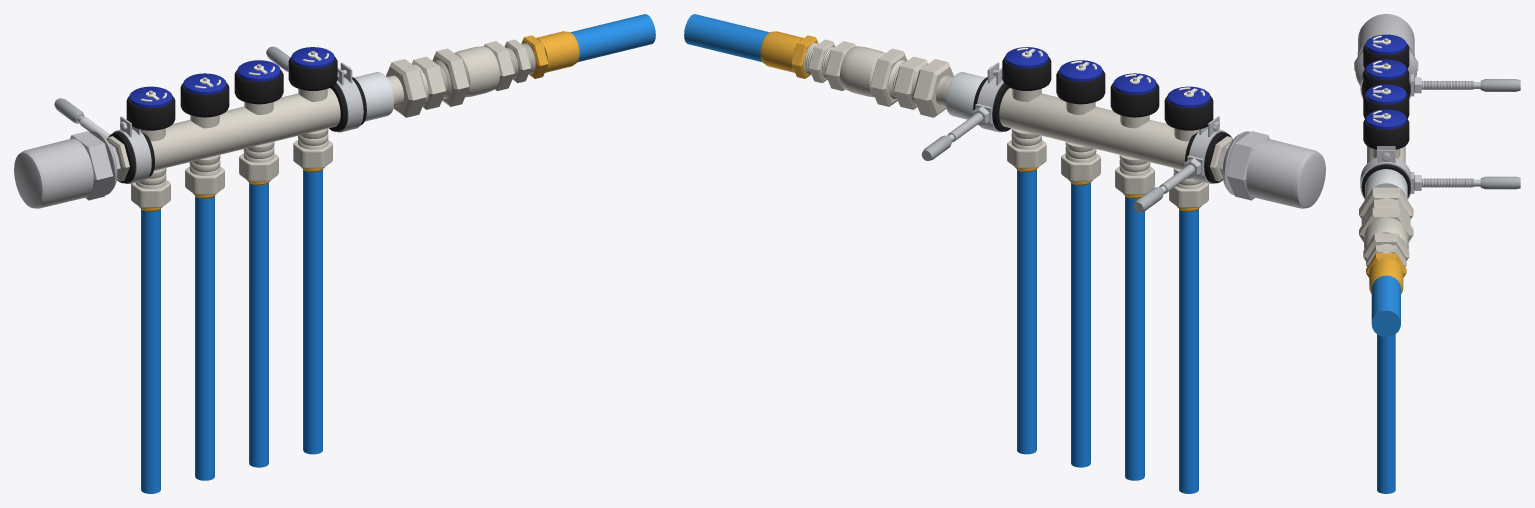
The model's file is water_manifold_cw4_rm.glb.
3 renders of one model, left to right at view 1: azimuth 30°, elevation 25°; view 2: azimuth 150°, elevation 25°; view 3: azimuth 270°, elevation 25°, orthographic. The views are drawn at different scales.
Parts seen in each view (by area): view 1: корпус, труба16.001, труба16.002, труба16.003, труба16, компенсатор крышка, подающая труба, корпус крана, сгон гайка, компенсатор SW47, удлинитель, гильза (+17 smaller); view 2: корпус, труба16.002, труба16.003, труба16, труба16.001, компенсатор крышка, подающая труба, корпус крана, сгон гайка, компенсатор SW47, удлинитель, гильза (+15 smaller); view 3: труба16.003, подающая труба, компенсатор крышка, колпак.003, удлинитель, корпус крана, сгон гайка, гильза, гайка американки, верх.002, верх.001, кран ВР (+15 smaller).
Part boxes in pixels (x1=…): корпус: x1=151, y1=88, x2=340, y2=170; труба16.001: x1=195, y1=196, x2=214, y2=480; труба16.002: x1=249, y1=183, x2=268, y2=467; труба16.003: x1=303, y1=170, x2=322, y2=454; труба16: x1=141, y1=209, x2=160, y2=493; компенсатор крышка: x1=14, y1=138, x2=93, y2=208; подающая труба: x1=570, y1=14, x2=655, y2=61; корпус крана: x1=454, y1=46, x2=499, y2=97; сгон гайка: x1=386, y1=59, x2=426, y2=117; компенсатор SW47: x1=70, y1=131, x2=113, y2=200; удлинитель: x1=354, y1=72, x2=394, y2=121; гильза: x1=536, y1=31, x2=579, y2=72; корпус: x1=999, y1=88, x2=1188, y2=169; труба16.002: x1=1071, y1=183, x2=1090, y2=467; труба16.003: x1=1017, y1=170, x2=1036, y2=454; труба16: x1=1179, y1=209, x2=1198, y2=493; труба16.001: x1=1125, y1=196, x2=1144, y2=480; компенсатор крышка: x1=1246, y1=138, x2=1325, y2=208; подающая труба: x1=684, y1=14, x2=769, y2=61; корпус крана: x1=840, y1=46, x2=885, y2=97; сгон гайка: x1=913, y1=59, x2=953, y2=117; компенсатор SW47: x1=1226, y1=131, x2=1269, y2=200; удлинитель: x1=945, y1=72, x2=985, y2=119; гильза: x1=760, y1=31, x2=803, y2=72; труба16.003: x1=1377, y1=334, x2=1395, y2=493; подающая труба: x1=1371, y1=275, x2=1400, y2=337; компенсатор крышка: x1=1357, y1=14, x2=1414, y2=56; колпак.003: x1=1363, y1=118, x2=1409, y2=149; удлинитель: x1=1365, y1=169, x2=1407, y2=199; корпус крана: x1=1364, y1=217, x2=1408, y2=249; сгон гайка: x1=1359, y1=187, x2=1413, y2=218; гильза: x1=1369, y1=258, x2=1403, y2=293; гайка американки: x1=1359, y1=208, x2=1413, y2=241; верх.002: x1=1366, y1=84, x2=1406, y2=104; верх.001: x1=1366, y1=59, x2=1406, y2=79; кран ВР: x1=1363, y1=233, x2=1409, y2=260.
Size of the model in its own units: 0.575 by 0.3526 by 0.1411.
